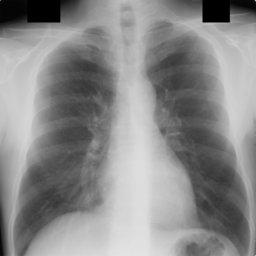left lobe: (147, 22, 249, 253)
right lobe: (15, 27, 115, 256)
